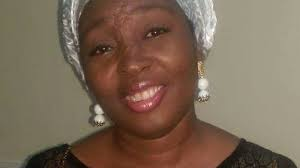middle_eastern_Female: (73, 1, 207, 135)
